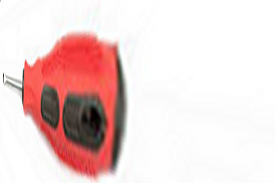Screwdriver: (1, 35, 147, 176)
